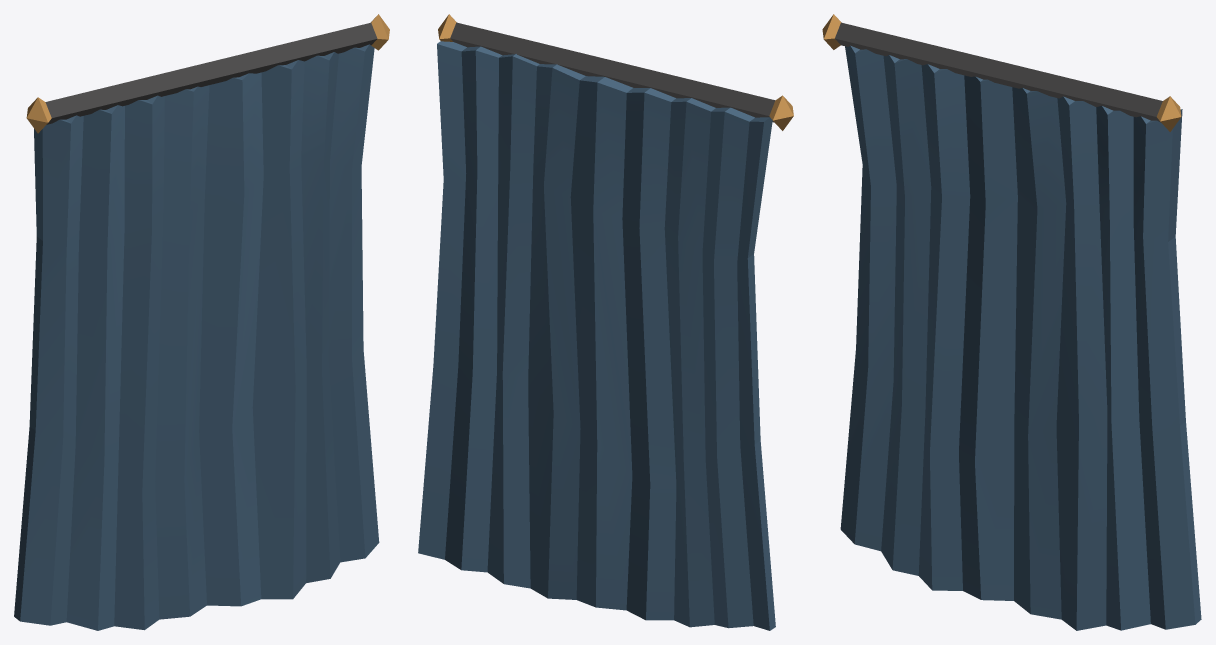
The model's file is SM_Bld_House_Window_Curtains_Closed_01.fbx.
The picture shows the model from 3 angles, left to right: view 1: azimuth 30°, elevation 25°; view 2: azimuth 150°, elevation 25°; view 3: azimuth 330°, elevation 25°; orthographic projection. The views are drawn at different scales.
Visible parts, largest first — view 1: SM_Bld_House_Window_Curtains_Closed_01; view 2: SM_Bld_House_Window_Curtains_Closed_01; view 3: SM_Bld_House_Window_Curtains_Closed_01.
Boxes of the visible parts, bbox=[...] form: SM_Bld_House_Window_Curtains_Closed_01: bbox=[14, 14, 389, 630]; SM_Bld_House_Window_Curtains_Closed_01: bbox=[418, 14, 793, 630]; SM_Bld_House_Window_Curtains_Closed_01: bbox=[822, 14, 1201, 630].
Size of the model in its own units: 149 by 219 by 20.31.
